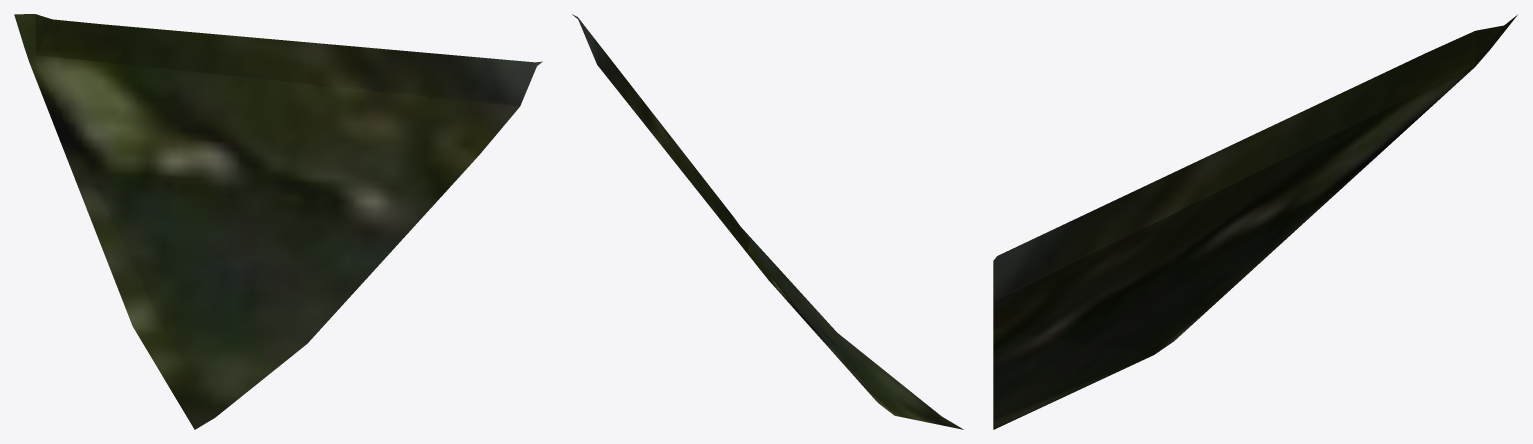
3 renders of one model, left to right at view 1: azimuth 30°, elevation 25°; view 2: azimuth 150°, elevation 25°; view 3: azimuth 270°, elevation 25°, orthographic. The views are drawn at different scales.
Size of the model in its own units: 0.1703 by 0.1325 by 0.1531.
Materials: 1 (1 with a texture image).
